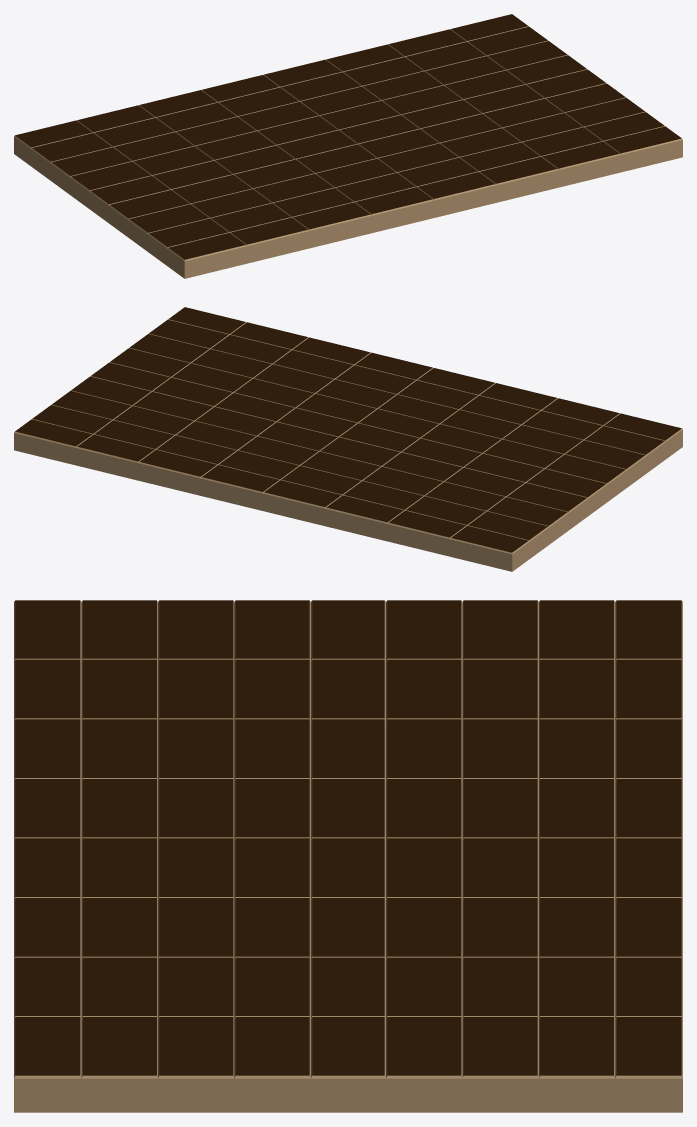
The model's file is nuevosuelo8.fbx.
The picture shows the model from 3 angles, top to bottom: view 1: azimuth 30°, elevation 25°; view 2: azimuth 150°, elevation 25°; view 3: azimuth 270°, elevation 25°; orthographic projection. The views are drawn at different scales.
Parts seen in each view (by area): view 1: Cube.028; view 2: Cube.028; view 3: Cube.028.
Part boxes in pixels (box(x1,y1,x2,y2)): Cube.028: box(14, 14, 682, 278); Cube.028: box(14, 307, 682, 571); Cube.028: box(14, 600, 682, 1112).
Size of the model in its own units: 10076 by 362 by 5980.
